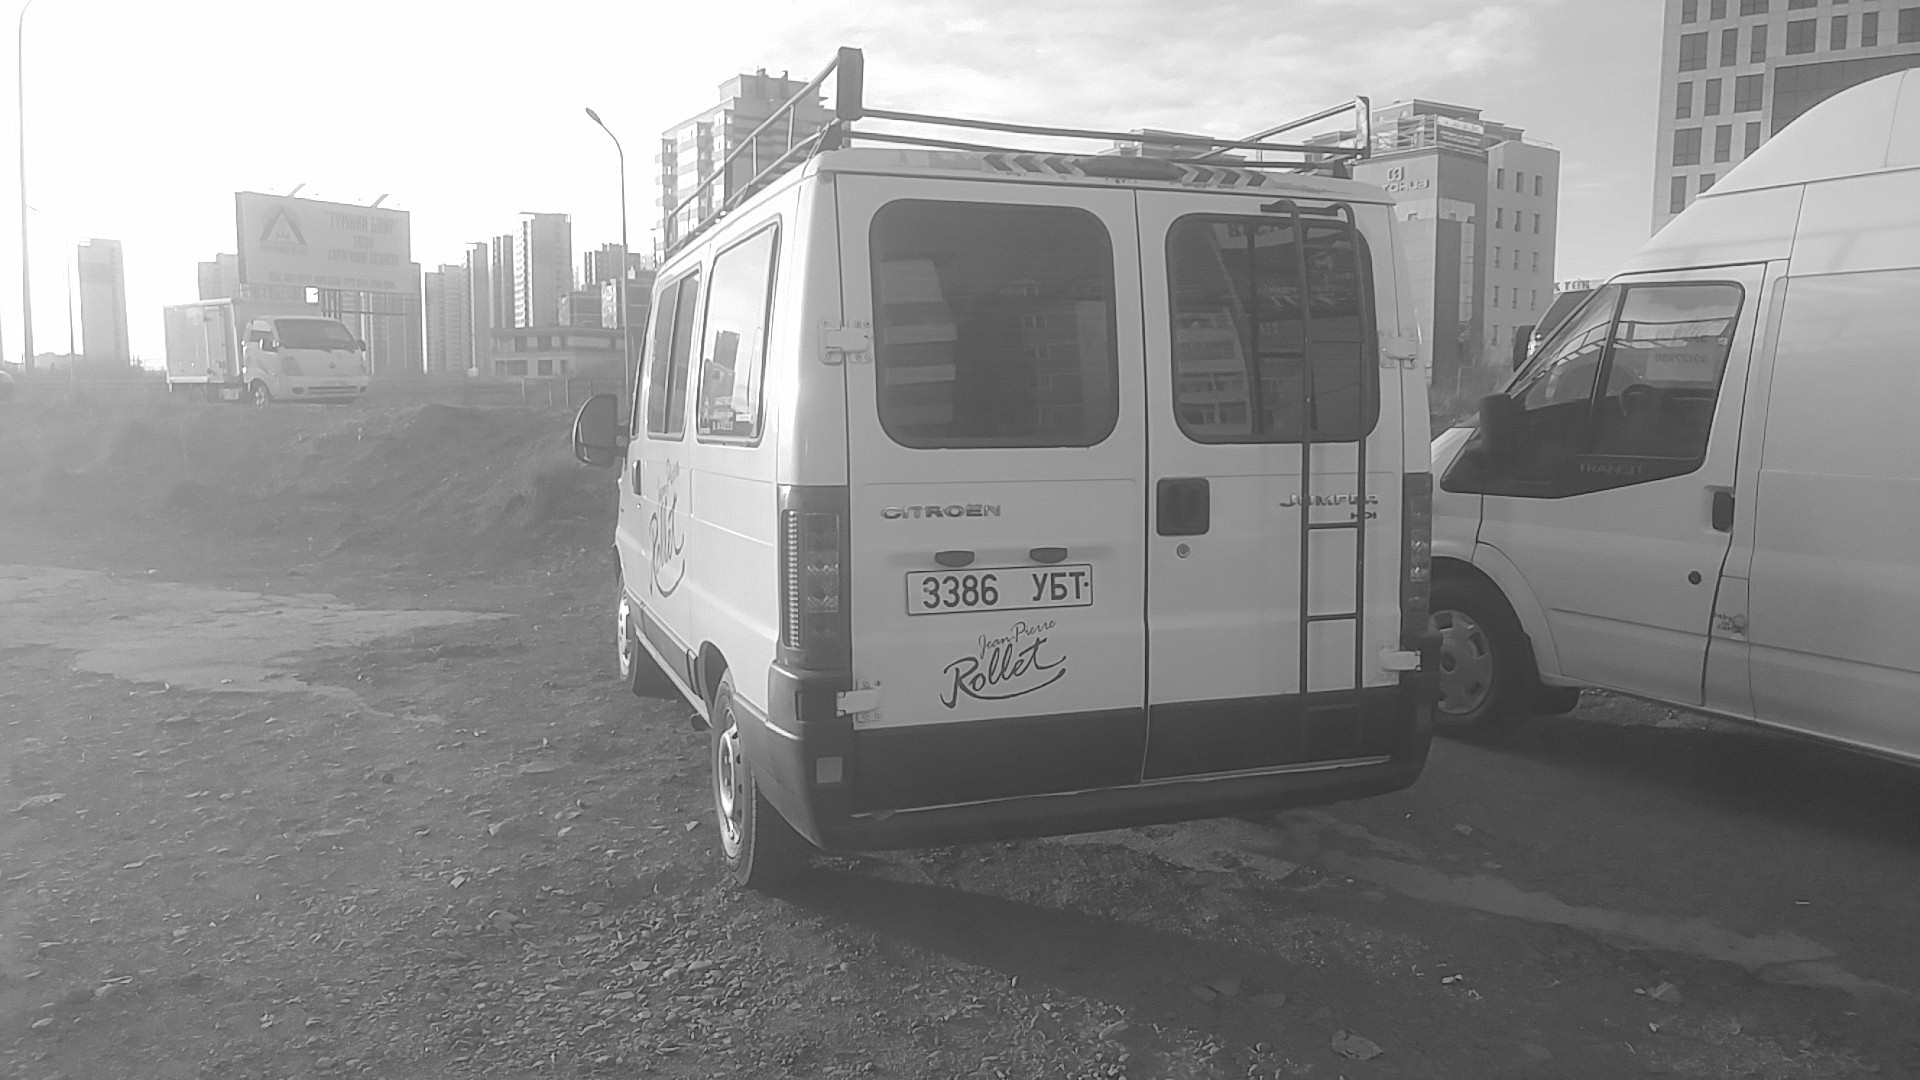3: (923, 576, 940, 609), (943, 575, 960, 607)
6: (981, 572, 998, 605)
8: (962, 573, 979, 606)
b: (1050, 571, 1069, 601)
plate: (905, 562, 1095, 616)
t: (1068, 570, 1086, 599)
u: (1031, 571, 1048, 602)
